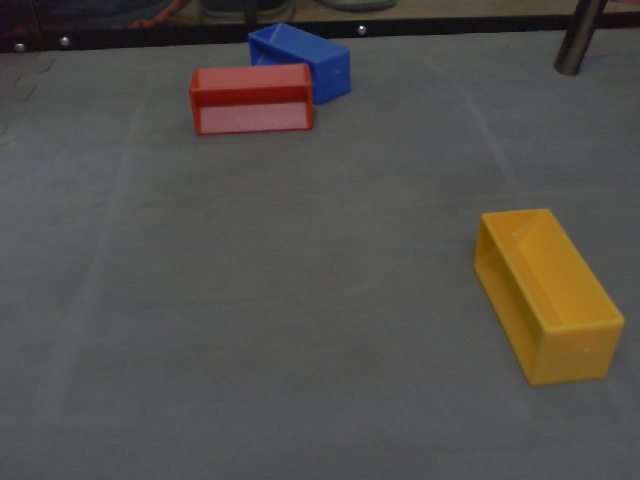BlueSample: (248, 22, 354, 106)
RedSample: (187, 61, 315, 138)
YellowSample: (469, 205, 628, 390)
